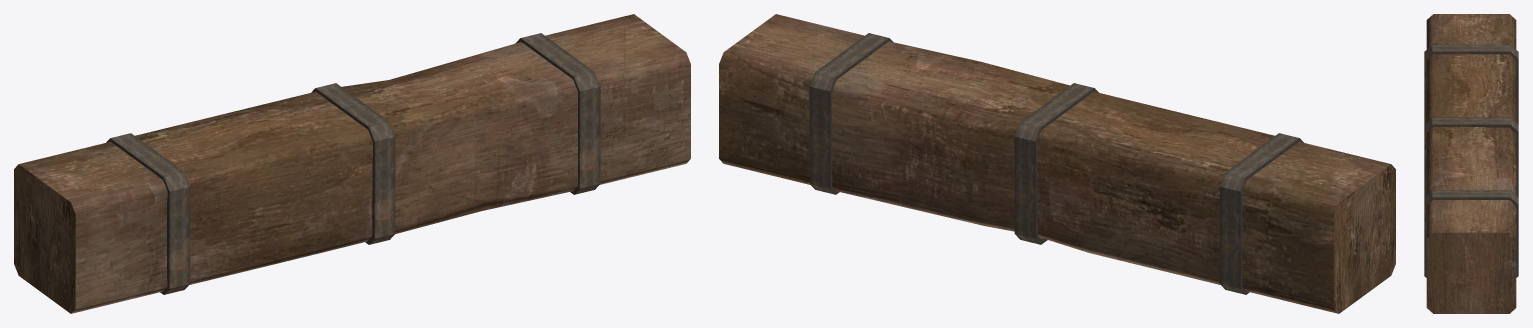
The picture shows the model from 3 angles, left to right: view 1: azimuth 30°, elevation 25°; view 2: azimuth 150°, elevation 25°; view 3: azimuth 270°, elevation 25°; orthographic projection. The views are drawn at different scales.
Parts seen in each view (by area): view 1: SM_BB_T3_Extended_Beam_Thick_Large_Horizontal_LOD0; view 2: SM_BB_T3_Extended_Beam_Thick_Large_Horizontal_LOD0; view 3: SM_BB_T3_Extended_Beam_Thick_Large_Horizontal_LOD0.
Boxes of the visible parts, bbox=[...] form: SM_BB_T3_Extended_Beam_Thick_Large_Horizontal_LOD0: bbox=[14, 14, 690, 313]; SM_BB_T3_Extended_Beam_Thick_Large_Horizontal_LOD0: bbox=[719, 14, 1395, 313]; SM_BB_T3_Extended_Beam_Thick_Large_Horizontal_LOD0: bbox=[1424, 14, 1518, 313].
Size of the model in its own units: 3 by 0.5477 by 0.5477.
Materials: 2 (2 with a texture image).
